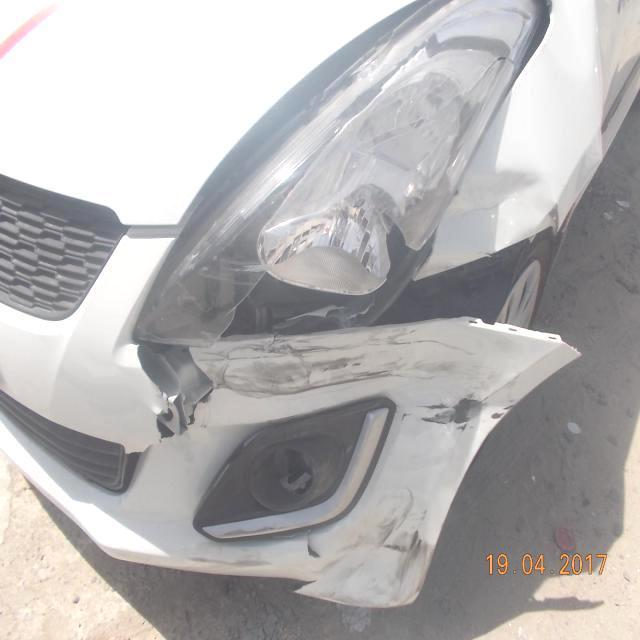minor: (124, 14, 584, 603)
